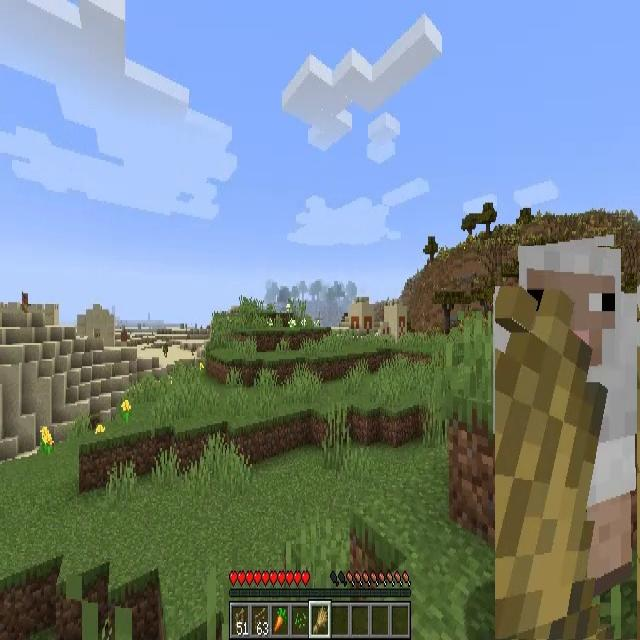flower: (40, 426, 54, 458), (121, 397, 132, 425), (95, 426, 105, 437)
sheep: (495, 246, 637, 639)
